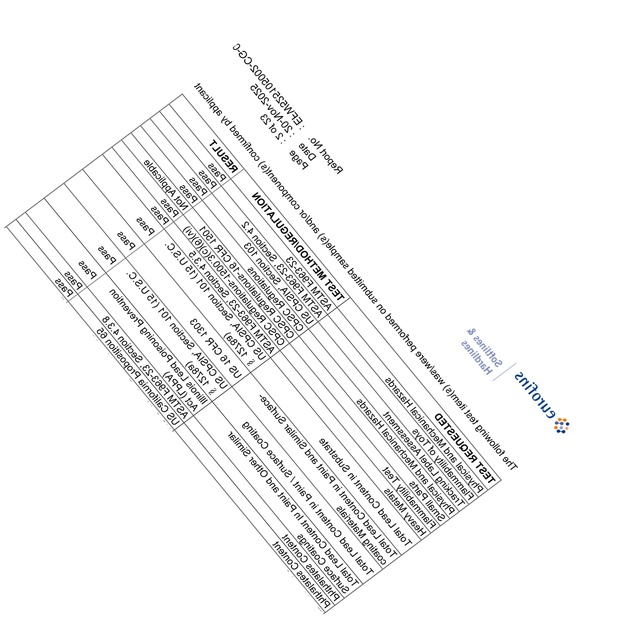eurofins: (512, 367, 572, 438)
